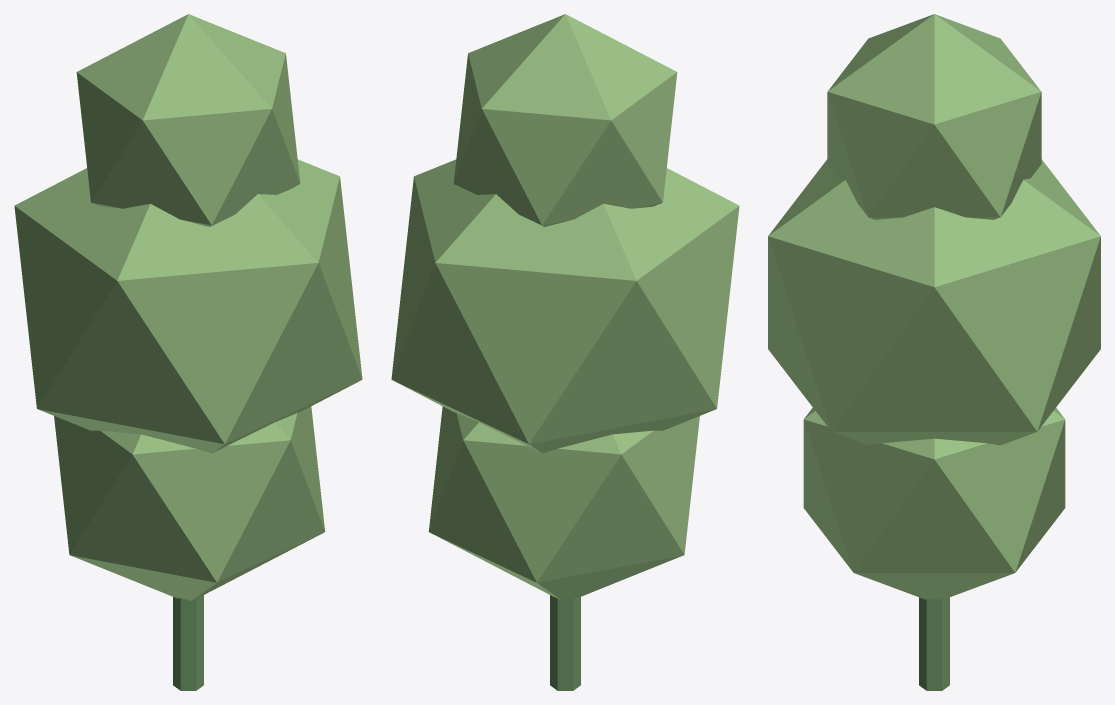
File: SM_HempPlant.fbx
The picture shows the model from 3 angles, left to right: view 1: azimuth 30°, elevation 25°; view 2: azimuth 150°, elevation 25°; view 3: azimuth 270°, elevation 25°; orthographic projection.
Visible parts, largest first — view 1: SM_HempPlant; view 2: SM_HempPlant; view 3: SM_HempPlant.
Boxes of the visible parts, <box> form: SM_HempPlant: <box>14,14,362,690</box>; SM_HempPlant: <box>391,14,739,690</box>; SM_HempPlant: <box>768,14,1100,690</box>.
Bounding box in the file's own units: 5009 × 4764 × 10600.
